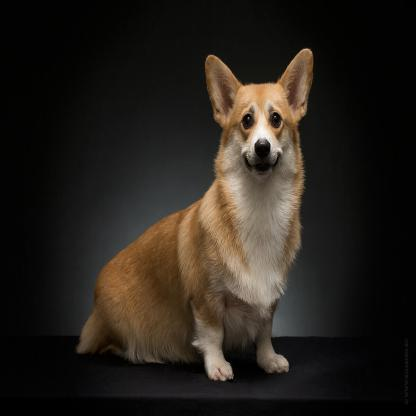Korgi: (74, 42, 318, 386)
